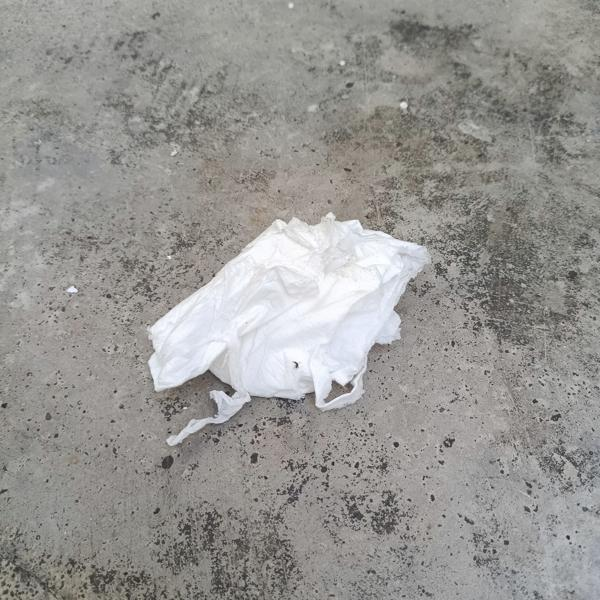Organik: (152, 200, 427, 473)
